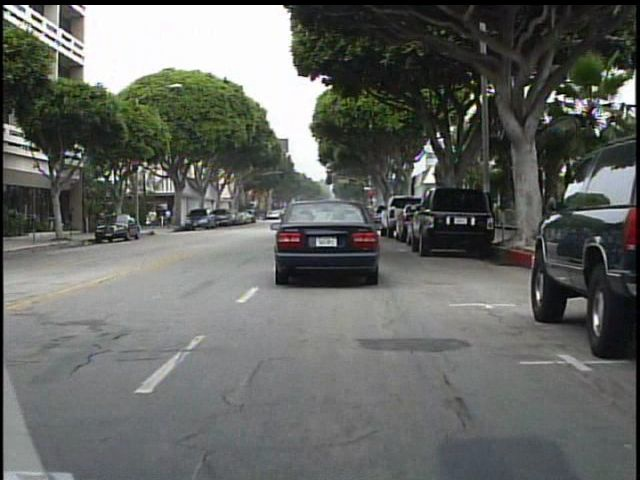person: (148, 204, 163, 234), (165, 204, 178, 231)
